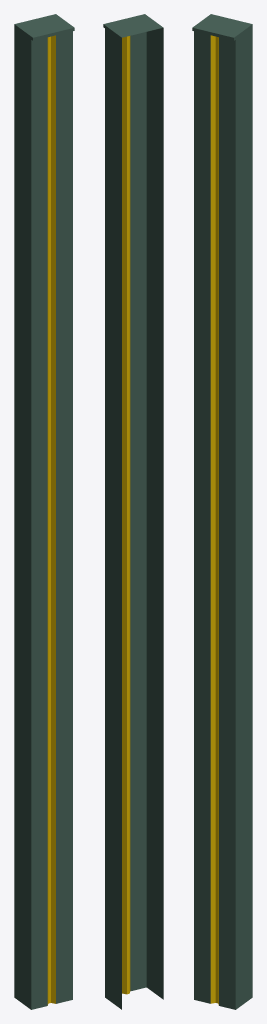
3 views of the same model, side by side, from view 1: azimuth 30°, elevation 25°; view 2: azimuth 210°, elevation 25°; view 3: azimuth 330°, elevation 25° (orthographic).
Parts seen in each view (by area): view 1: Column.037; view 2: Column.037; view 3: Column.037.
Boxes of the visible parts, x1,y1,x2,y2 form: Column.037: [14, 14, 74, 1009]; Column.037: [103, 14, 163, 1009]; Column.037: [192, 14, 252, 1009].
Bounding box in the file's own units: 278 × 6223 × 217.
